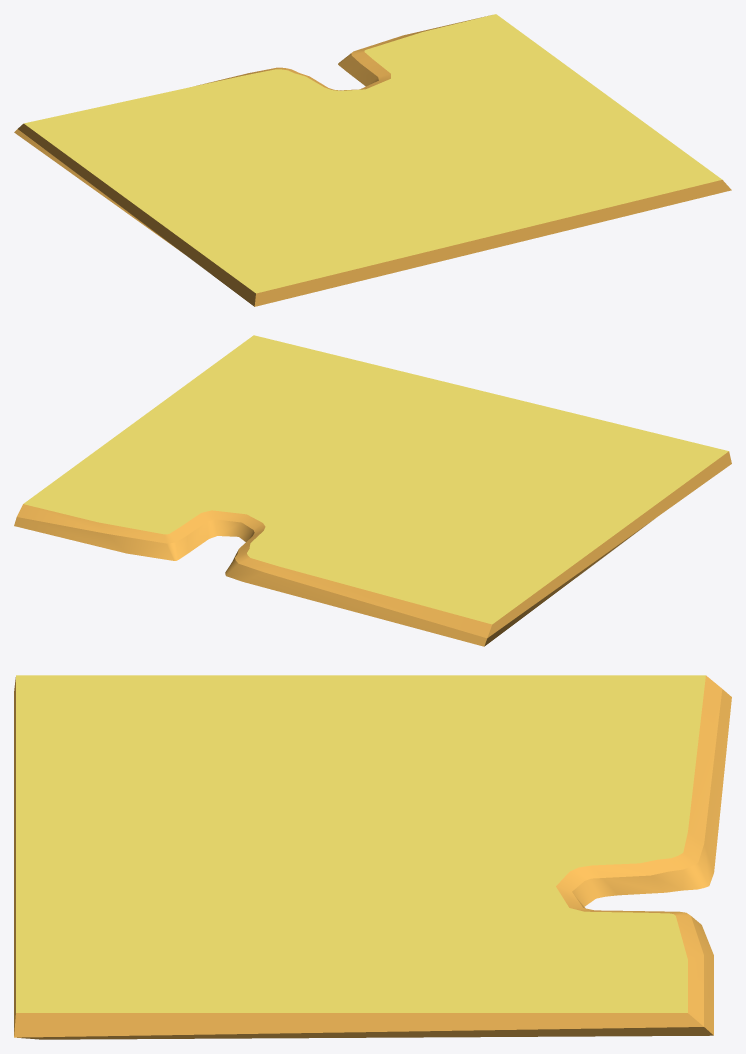
The model's file is island.fbx.
3 views of the same model, one above another, from view 1: azimuth 30°, elevation 25°; view 2: azimuth 150°, elevation 25°; view 3: azimuth 270°, elevation 25° (orthographic). The views are drawn at different scales.
Parts seen in each view (by area): view 1: Cube.002; view 2: Cube.002; view 3: Cube.002.
Boxes of the visible parts, x1,y1,x2,y2 form: Cube.002: (14, 14, 731, 306); Cube.002: (14, 335, 731, 646); Cube.002: (14, 675, 731, 1039).
Size of the model in its own units: 32.9 by 1 by 28.87.
